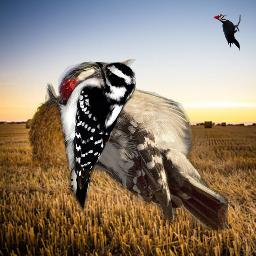Woodpecker: (58, 59, 228, 234), (45, 62, 136, 215), (213, 14, 241, 51)
